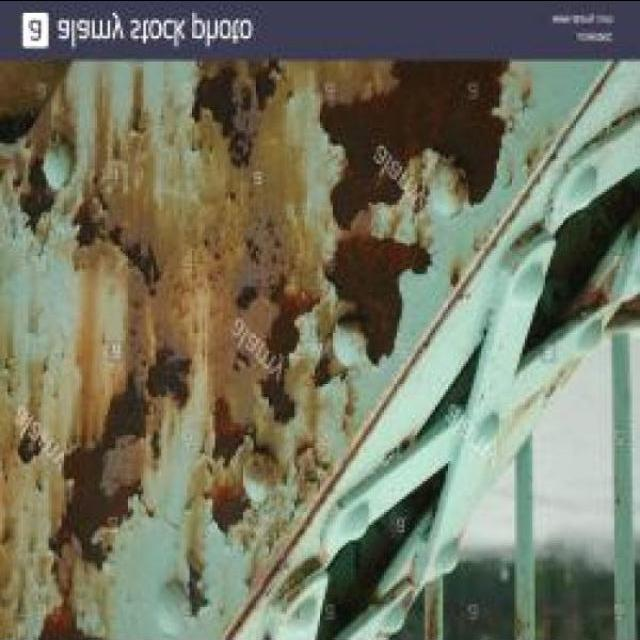corrosion: (40, 353, 358, 559), (315, 81, 527, 239), (190, 61, 283, 171), (17, 159, 61, 233)
crack: (40, 72, 168, 281)
dampness: (1, 55, 527, 637), (2, 70, 96, 640), (150, 226, 232, 506), (238, 63, 336, 283)
